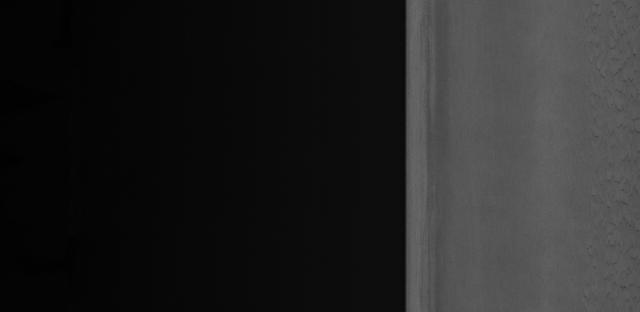silk_spot: (568, 38, 632, 295)
